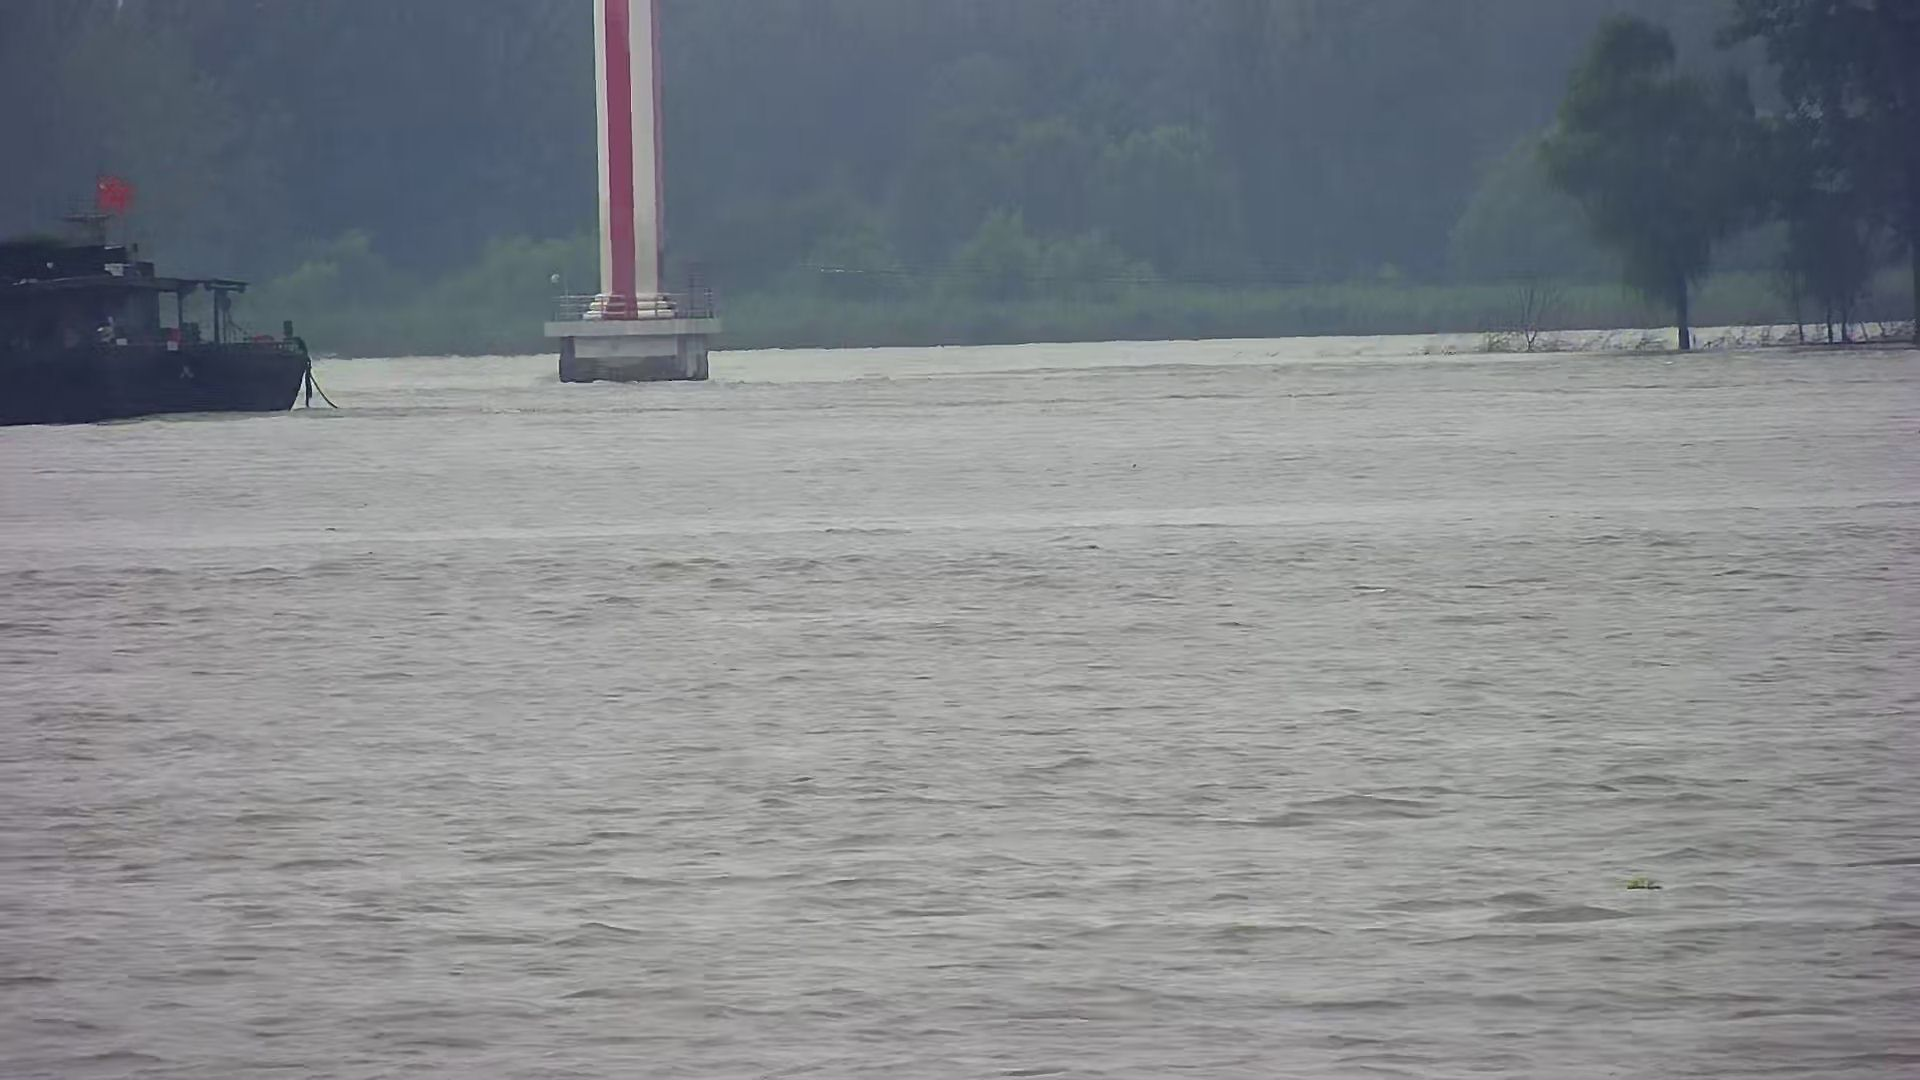grass: (1440, 294, 1663, 353)
platform: (531, 4, 724, 385)
ship: (1, 216, 316, 415)
tree: (1542, 15, 1787, 353), (1733, 4, 1920, 347)
